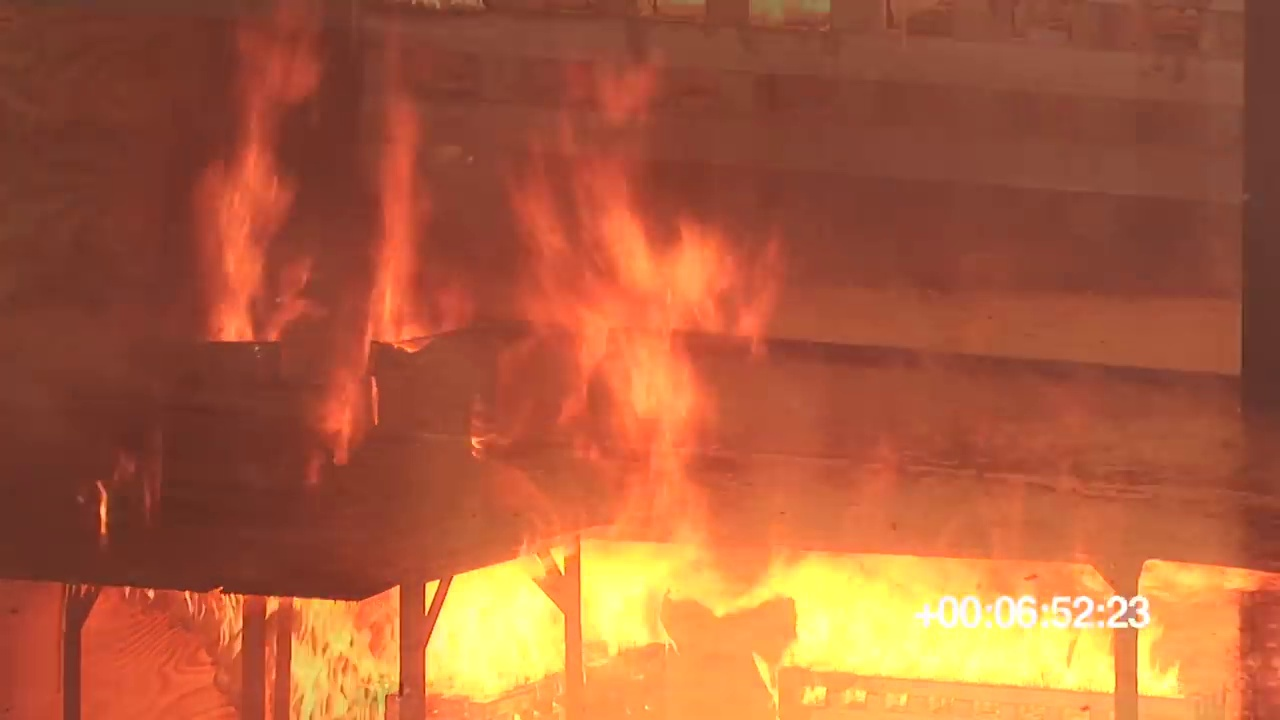fire: (504, 55, 784, 526), (265, 544, 699, 718), (785, 572, 1113, 693), (197, 24, 313, 339), (362, 91, 426, 344), (1140, 634, 1178, 692)
